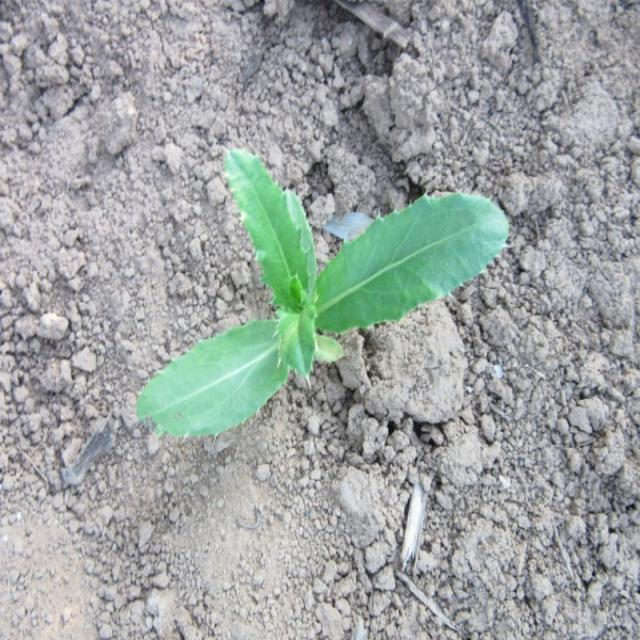cs: (137, 143, 510, 446)
